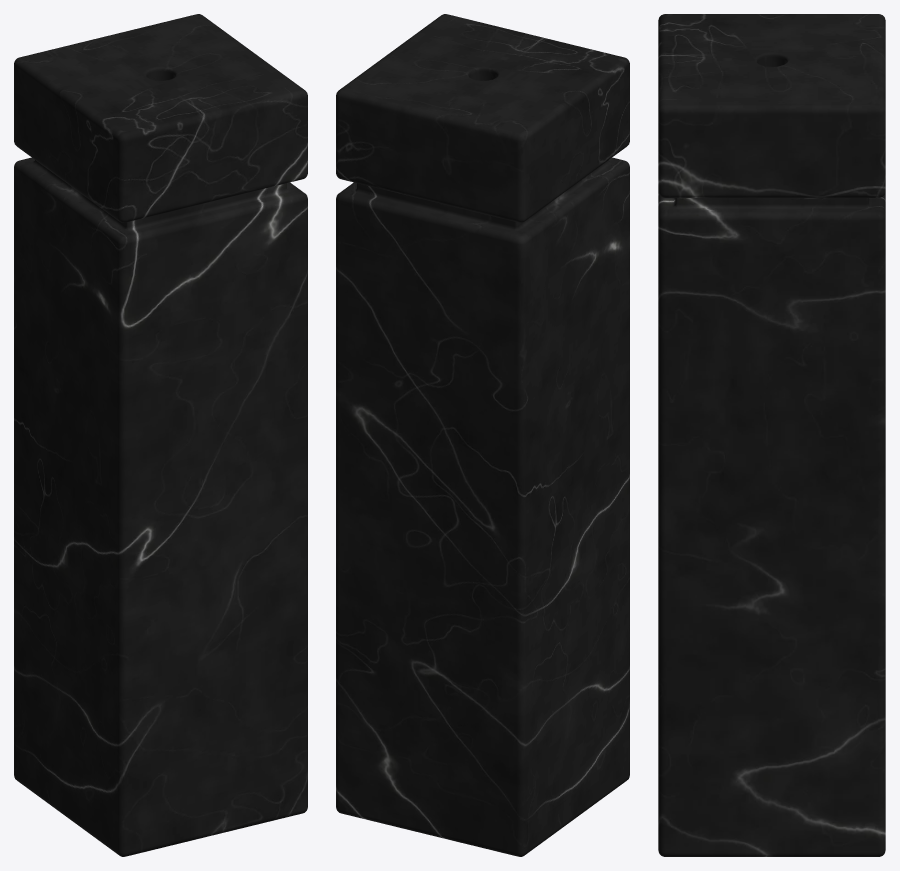
Rendered from queen-black-hd.glb.
The picture shows the model from 3 angles, left to right: view 1: azimuth 30°, elevation 25°; view 2: azimuth 150°, elevation 25°; view 3: azimuth 270°, elevation 25°; orthographic projection. The views are drawn at different scales.
Visible parts, largest first — view 1: dama_cerny; view 2: dama_cerny; view 3: dama_cerny.
Part boxes in pixels (box(x1,y1,x2,y2)): dama_cerny: box(14, 14, 307, 856); dama_cerny: box(336, 14, 629, 856); dama_cerny: box(658, 14, 885, 856).
Size of the model in its own units: 0.4329 by 1.58 by 0.4329.
Materials: 1 (1 with a texture image).
